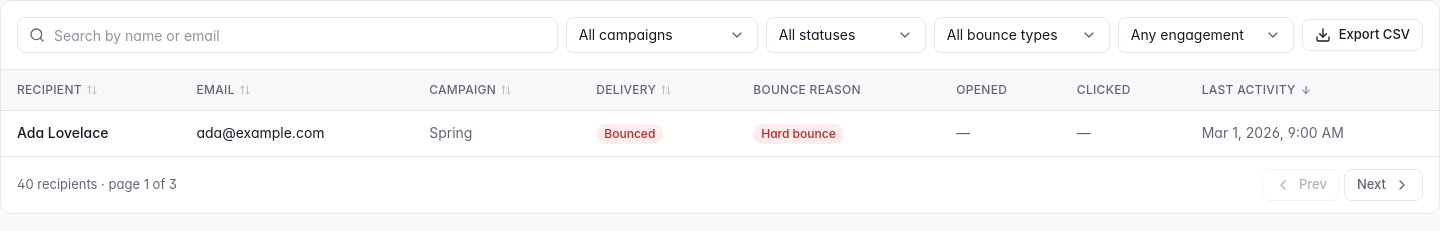
RecipientTable › paginates
The image size is (1440, 231).
Expected: the button "ada@example.com" is shown, [196,123,325,143]
Expected: the button with aria-label "Previous page" is disabled, [1262,168,1340,200]
Click the button with aria-label "Next page" at x=1383, y=184, box [1344,168,1423,200]
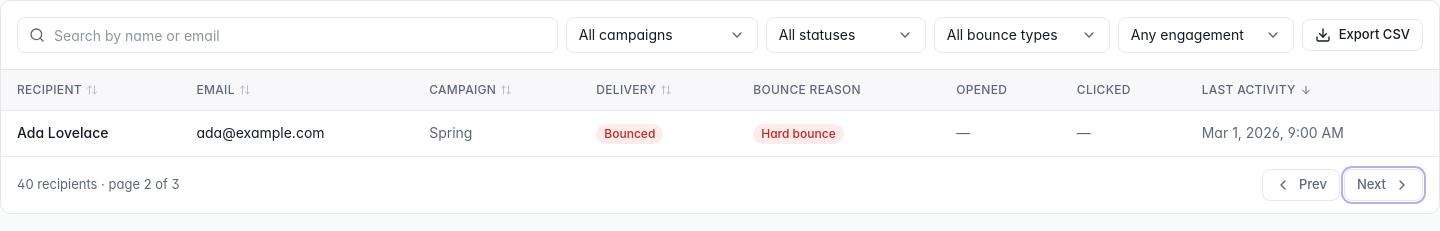
Now the text "40 recipients · page 2 of 3" is shown, box [17,175,180,194]
